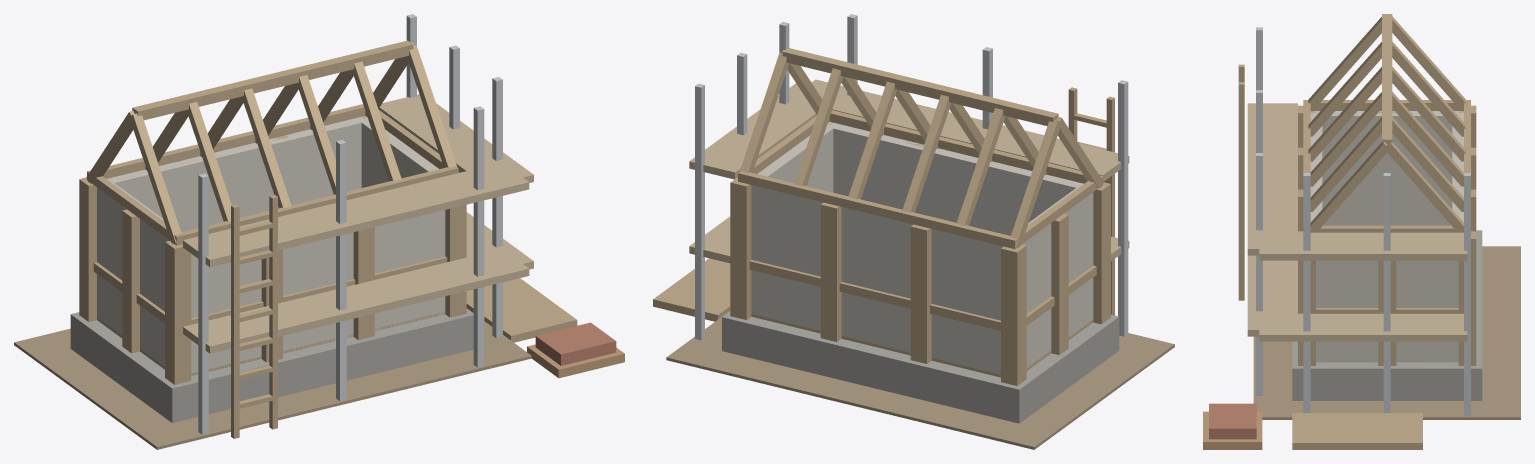
File: garden_shed_site_9.glb
3 views of the same model, side by side, from view 1: azimuth 30°, elevation 25°; view 2: azimuth 150°, elevation 25°; view 3: azimuth 270°, elevation 25° (orthographic). The views are drawn at different scales.
Parts seen in each view (by area): view 1: body; view 2: body; view 3: body.
Boxes of the visible parts, bbox=[...] form: body: bbox=[14, 14, 624, 449]; body: bbox=[653, 14, 1174, 449]; body: bbox=[1203, 14, 1520, 449].
Size of the model in its own units: 1.2 by 0.7155 by 0.8.
